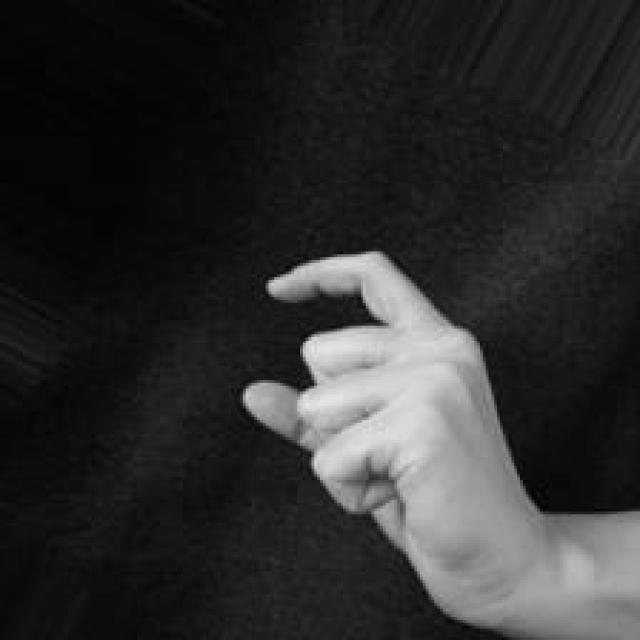C: (233, 246, 545, 638)
